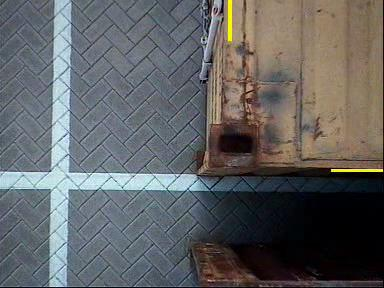groundmarker_2: (127, 6, 189, 46), (129, 151, 190, 190)
